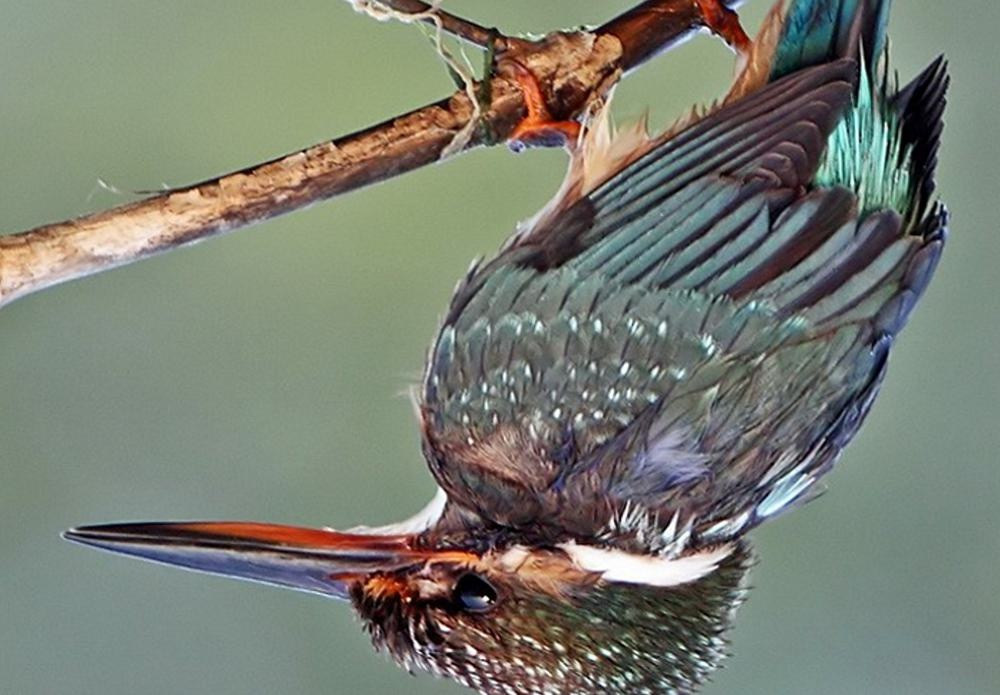kingfisher: (61, 28, 983, 686)
